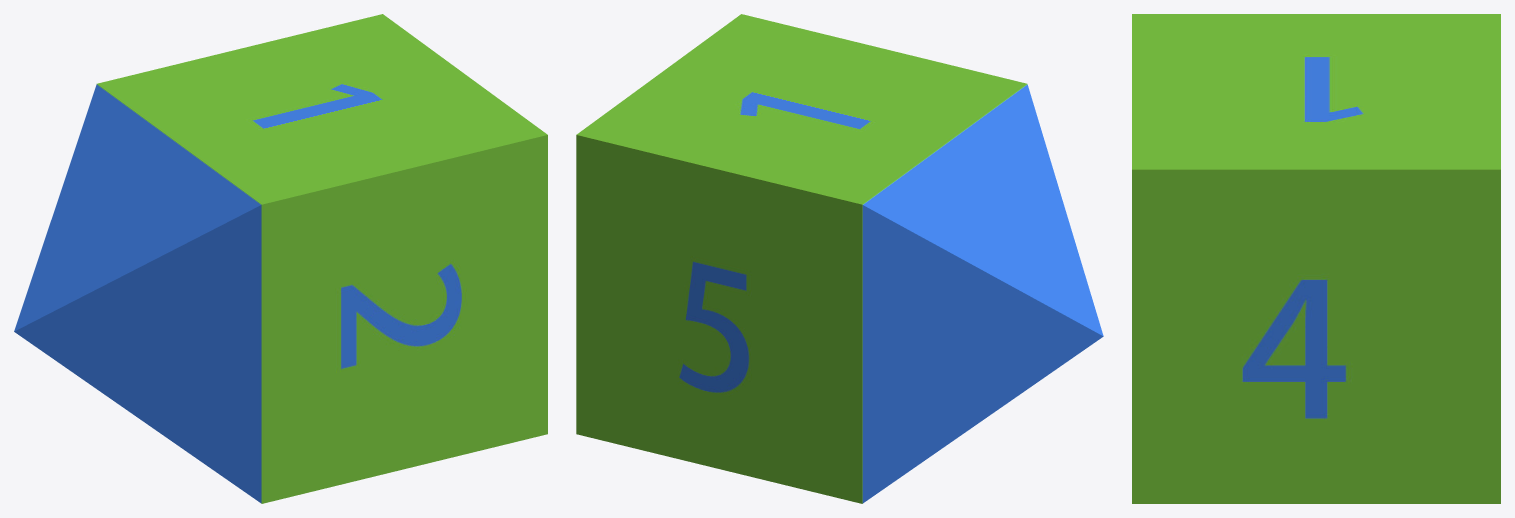
3 renders of one model, left to right at view 1: azimuth 30°, elevation 25°; view 2: azimuth 150°, elevation 25°; view 3: azimuth 270°, elevation 25°, orthographic. The views are drawn at different scales.
Parts seen in each view (by area): view 1: 立方体; view 2: 立方体; view 3: 立方体.
Boxes of the visible parts, x1,y1,x2,y2 form: 立方体: (14, 14, 547, 503); 立方体: (576, 14, 1103, 503); 立方体: (1132, 14, 1500, 503).
Bounding box in the file's own units: 313 × 200 × 200.
1 material, 1 textured.
